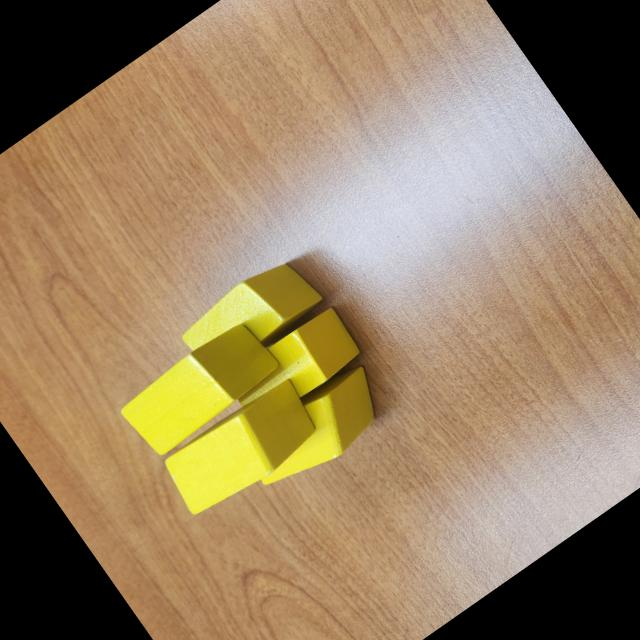yellow: (155, 371, 328, 524), (114, 313, 285, 463), (236, 358, 400, 502), (172, 248, 328, 384), (219, 302, 366, 431)
